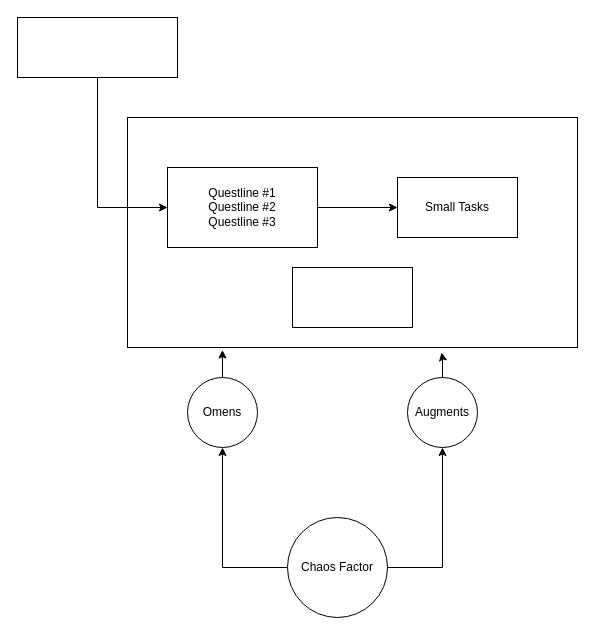
The diagram is 595 pixels wide and 635 high, and some of its shapes have lost their labels. The shapes that lost their labels are listed below. From the top down, each one's centre as x and y in pixels, then its label:
At point (97, 47): "Main Task: Ensure that all goes well".
At point (352, 297): "Recurring taks".
